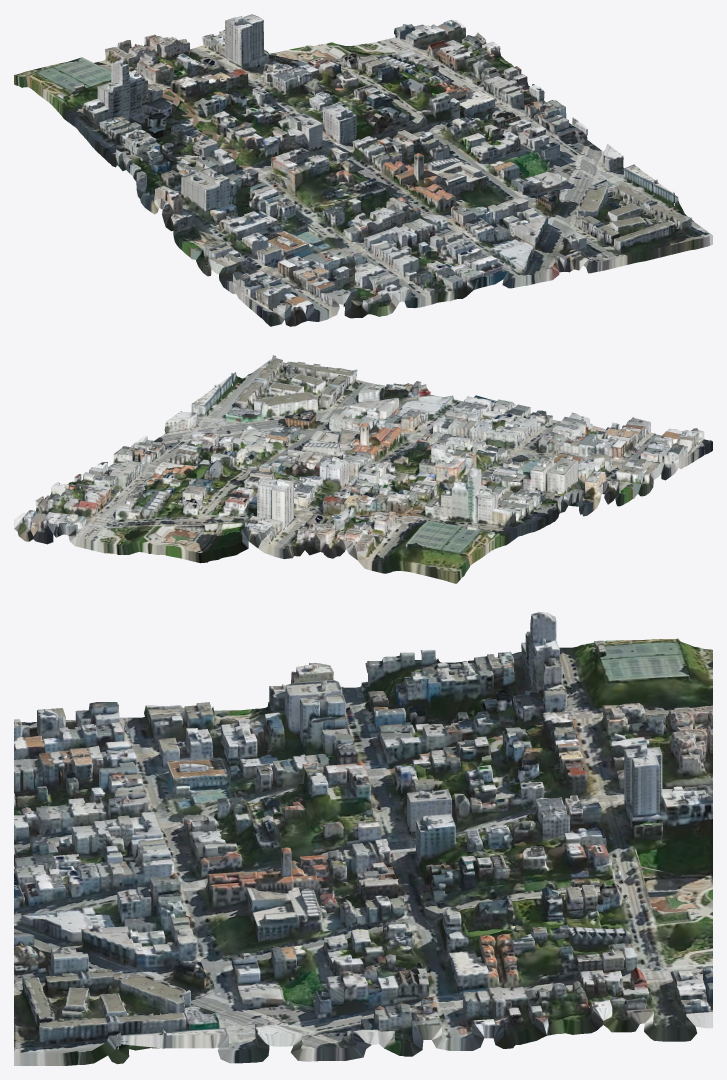
Rendered from z16-10482-25324-h0-yup-uvflip-v3-world.glb.
The picture shows the model from 3 angles, top to bottom: view 1: azimuth 30°, elevation 25°; view 2: azimuth 150°, elevation 25°; view 3: azimuth 270°, elevation 25°; orthographic projection. The views are drawn at different scales.
Bounding box in the file's own units: 483 × 147 × 485.
Materials: 1 (1 with a texture image).
